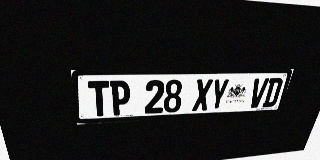2: (145, 80, 165, 114)
8: (163, 79, 184, 113)
D: (262, 78, 284, 107)
P: (110, 80, 130, 116)
T: (88, 81, 110, 117)
V: (247, 78, 269, 108)
X: (192, 79, 213, 111)
Y: (208, 79, 230, 110)
